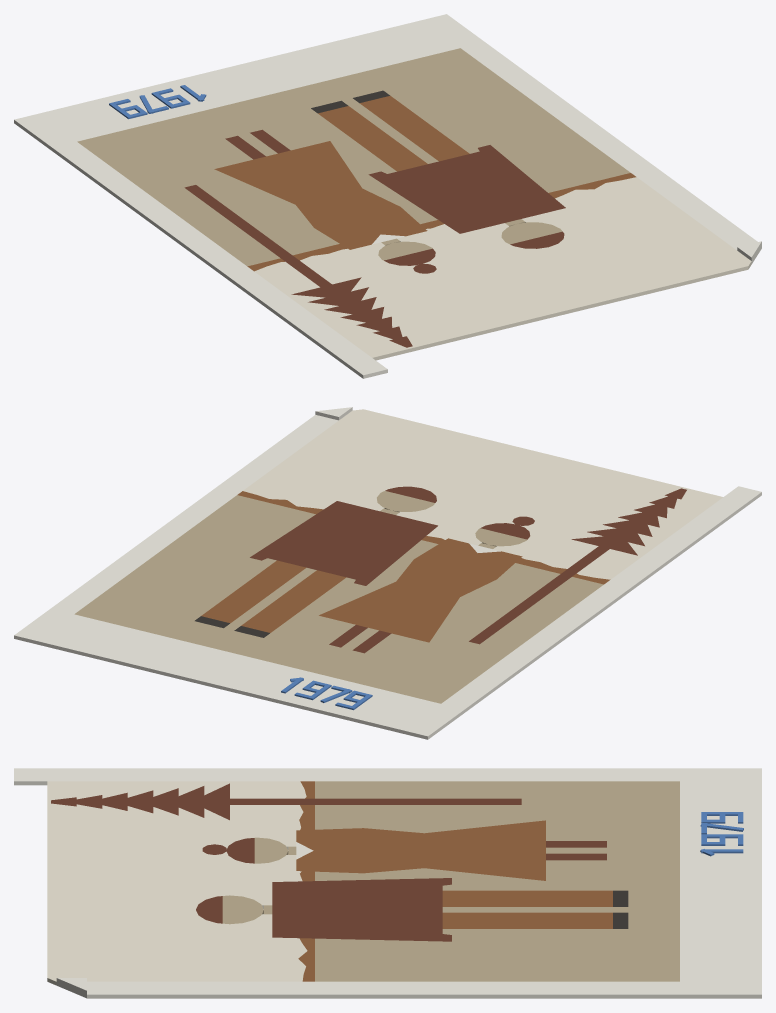
Rendered from old_photo.glb.
3 views of the same model, one above another, from view 1: azimuth 30°, elevation 25°; view 2: azimuth 150°, elevation 25°; view 3: azimuth 270°, elevation 25° (orthographic). The views are drawn at different scales.
Parts seen in each view (by area): view 1: field, sky, card, figures, treeline; view 2: field, sky, card, figures, treeline; view 3: field, sky, card, figures, treeline.
Boxes of the visible parts, box(x1,y1,x2,y2) form: field: box(77, 48, 630, 266); sky: box(254, 177, 751, 360); card: box(14, 14, 761, 378); figures: box(184, 90, 565, 347); treeline: box(247, 173, 635, 271); field: box(74, 495, 603, 703); sky: box(243, 409, 722, 579); card: box(14, 407, 761, 739); figures: box(195, 486, 686, 653); treeline: box(237, 491, 610, 584); field: box(315, 781, 679, 981); sky: box(47, 781, 307, 985); card: box(14, 768, 761, 998); figures: box(51, 783, 628, 941); treeline: box(298, 781, 314, 981).
Size of the model in its own units: 0.088 by 0.0014 by 0.123.
